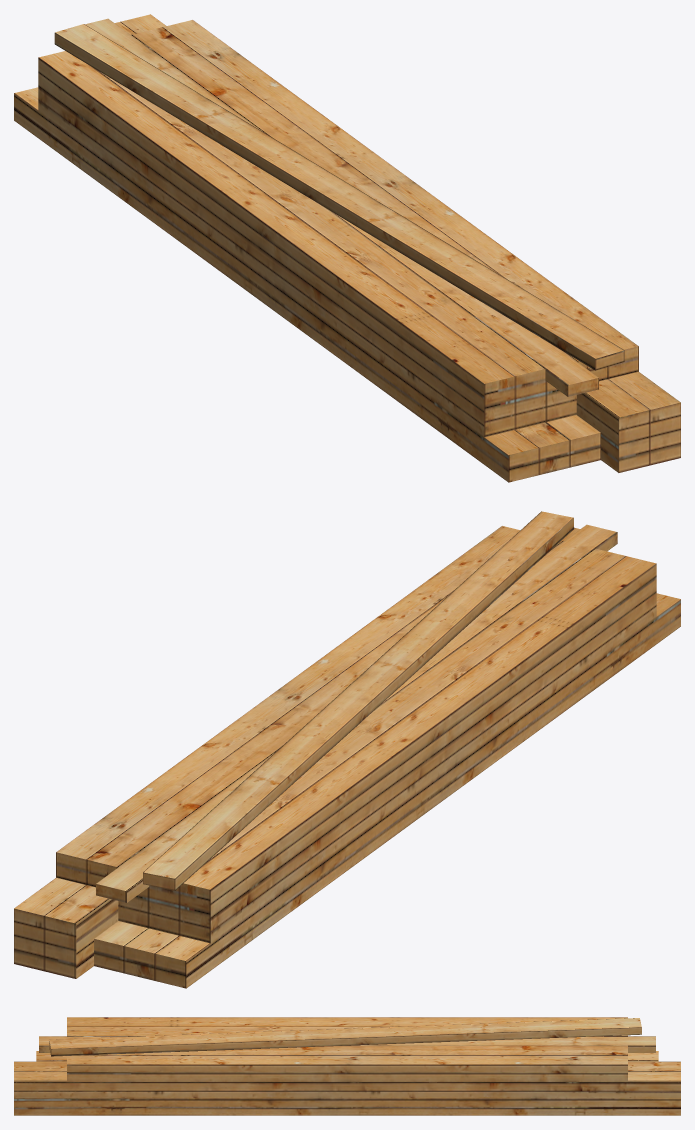
Rendered from WoodenPile.obj.
The picture shows the model from 3 angles, top to bottom: view 1: azimuth 30°, elevation 25°; view 2: azimuth 150°, elevation 25°; view 3: azimuth 270°, elevation 25°; orthographic projection. The views are drawn at different scales.
Parts seen in each view (by area): view 1: WoodenPile.001; view 2: WoodenPile.001; view 3: WoodenPile.001.
Boxes of the visible parts, bbox=[...] form: WoodenPile.001: bbox=[14, 14, 680, 482]; WoodenPile.001: bbox=[14, 511, 680, 988]; WoodenPile.001: bbox=[14, 1017, 680, 1115].
Bounding box in the file's own units: 2 × 1.14 × 11.89.
